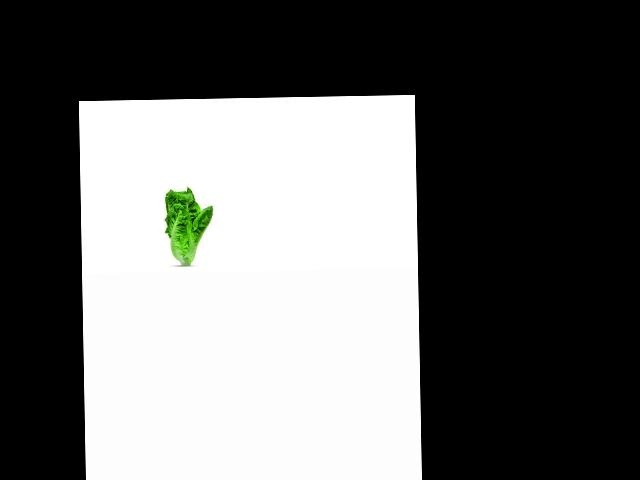lettuce: (161, 186, 214, 263)
